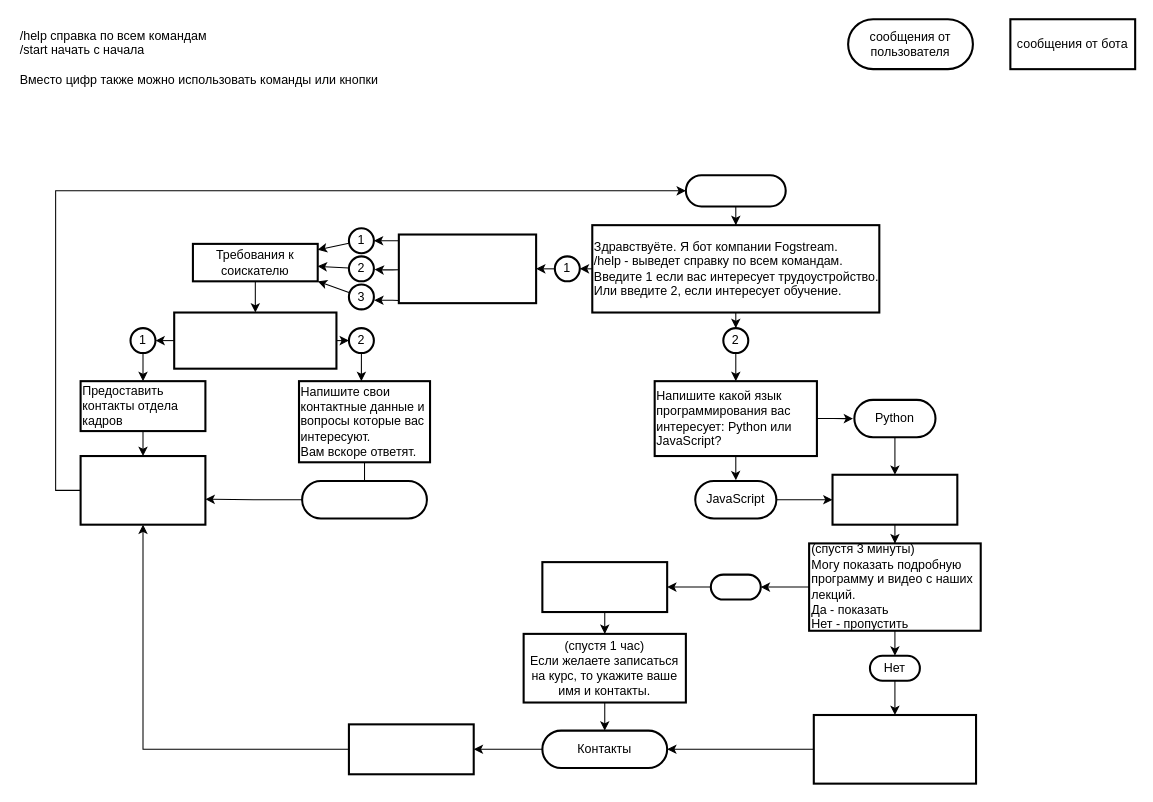
Some shapes in this 1153 by 802 pixel diagram are drawn without their labels. Here are the shapes that lost their labels. From the top down, the centre of each, then its label:
(x=735, y=190): /start
(x=467, y=268): Выберете вакансию 1 - Pyton программист 2 - HR менеджер 3 - дизайнер
(x=255, y=340): 1 - сейчас связаться с отделом кадров 2 - оставить свои данные
(x=142, y=489): (спустя 2 минуты) /start - начать с начала /help - справка
(x=364, y=499): Контакты и вопросы
(x=894, y=499): Информация о языке и условиях курса
(x=604, y=587): Программа курса и видео
(x=735, y=586): Да
(x=410, y=749): Спасибо. Скоро вам позвонит менеджер.
(x=894, y=748): Если желаете записаться на курс, то укажите ваше имя и контакты.
